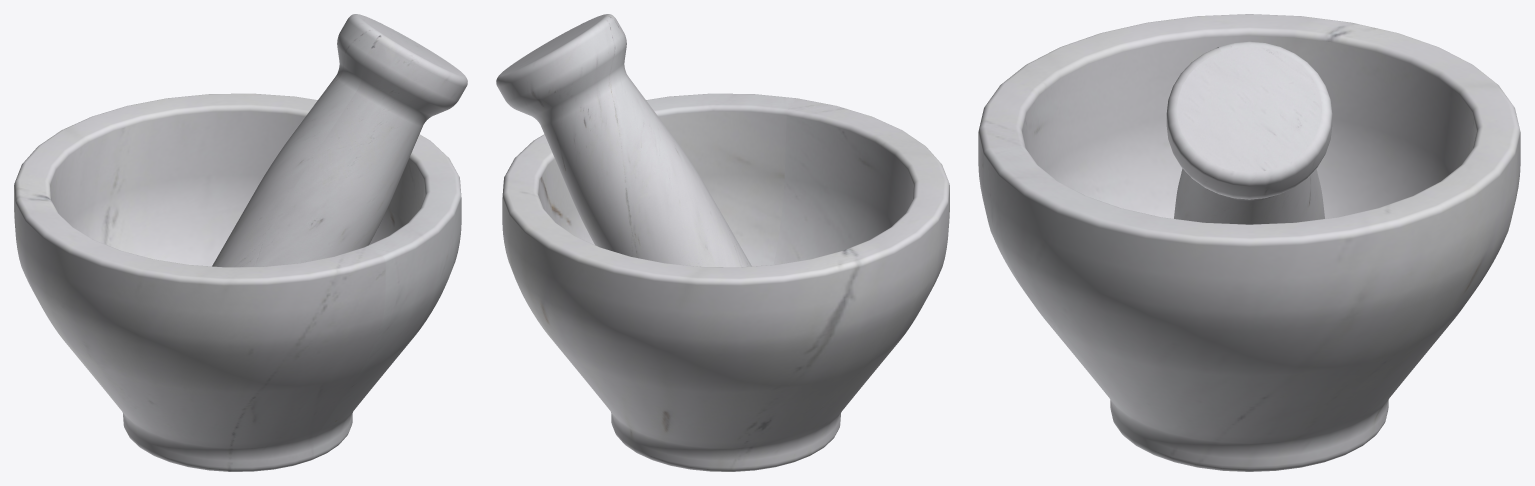
Rendered from sivec_marble_mortar__pestle_set.glb.
The picture shows the model from 3 angles, left to right: view 1: azimuth 30°, elevation 25°; view 2: azimuth 150°, elevation 25°; view 3: azimuth 270°, elevation 25°; orthographic projection. The views are drawn at different scales.
Parts seen in each view (by area): view 1: Cylinder_0, Cylinder.001_1; view 2: Cylinder_0, Cylinder.001_1; view 3: Cylinder_0, Cylinder.001_1.
Boxes of the visible parts, box(x1,y1,x2,y2) form: Cylinder_0: box(14, 93, 461, 471); Cylinder.001_1: box(212, 14, 467, 267); Cylinder_0: box(502, 93, 949, 471); Cylinder.001_1: box(496, 14, 751, 267); Cylinder_0: box(978, 14, 1520, 471); Cylinder.001_1: box(1166, 41, 1332, 224).
Size of the model in its own units: 0.2129 by 0.1825 by 0.1999.
Materials: 1 (1 with a texture image).
